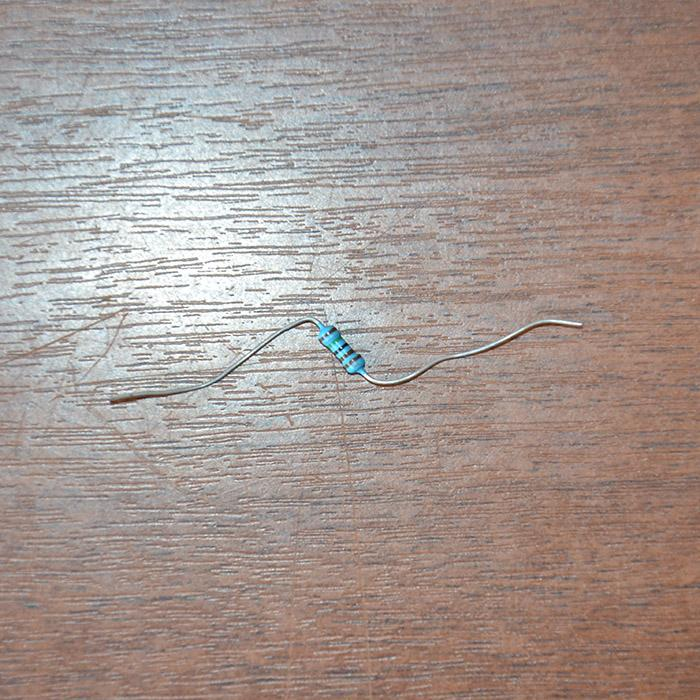resistor: (316, 322, 364, 375)
